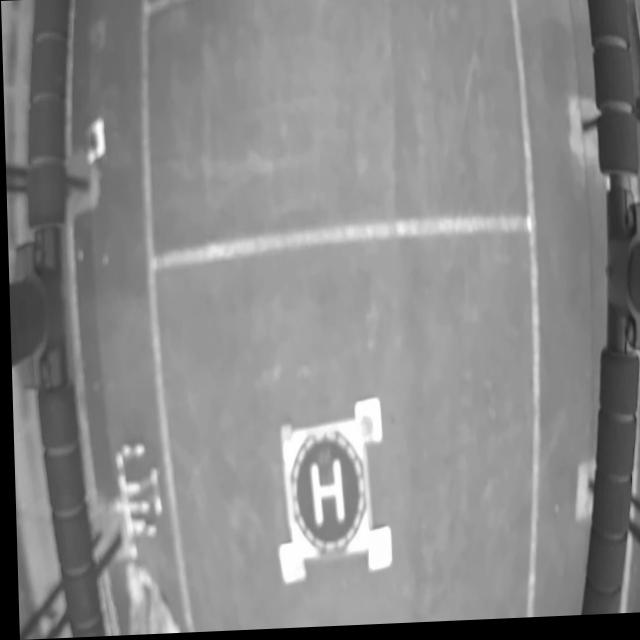Helipad: (305, 460, 341, 527)
